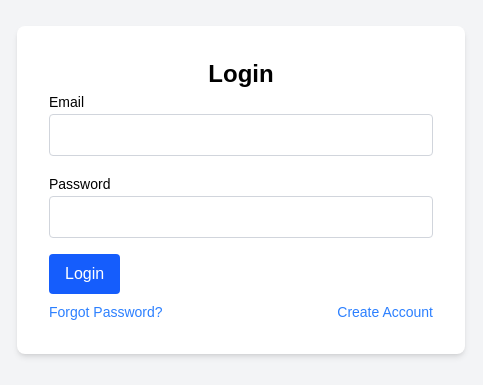
Test case: LoginForm Component › shows validation error for short password
Type "test@example.com" into the field with id "email".
click(241, 135); type("test@example.com")  # box [49,114,433,156]
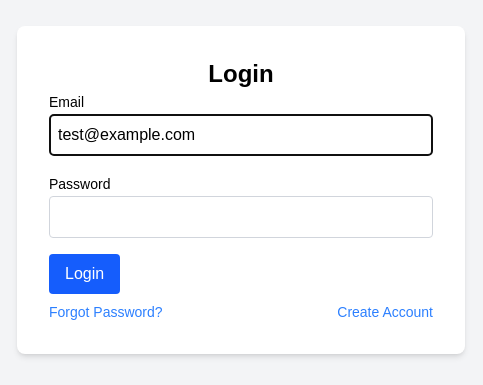
Type "123" into the password field labelled "Password".
click(241, 217); type("123")  # box [49,196,433,238]
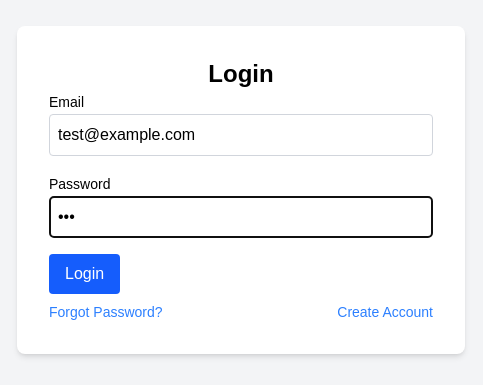
Click the submit button.
click(85, 274)  # box [49,254,120,294]
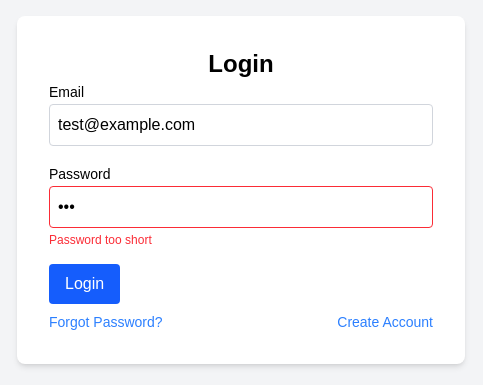
Result: the text "Password too short" is shown at [49,233,152,247]
